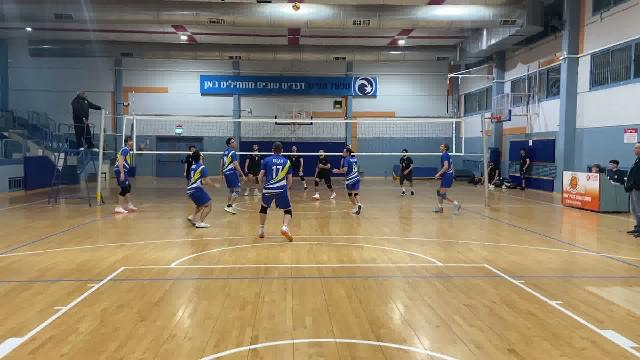ball: (289, 1, 302, 12)
